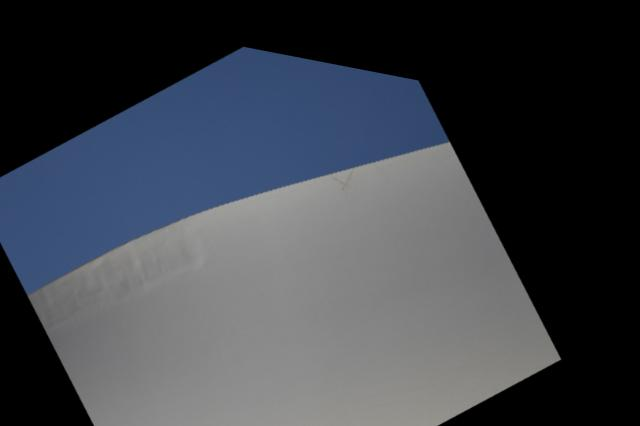damage: (328, 141, 370, 180)
